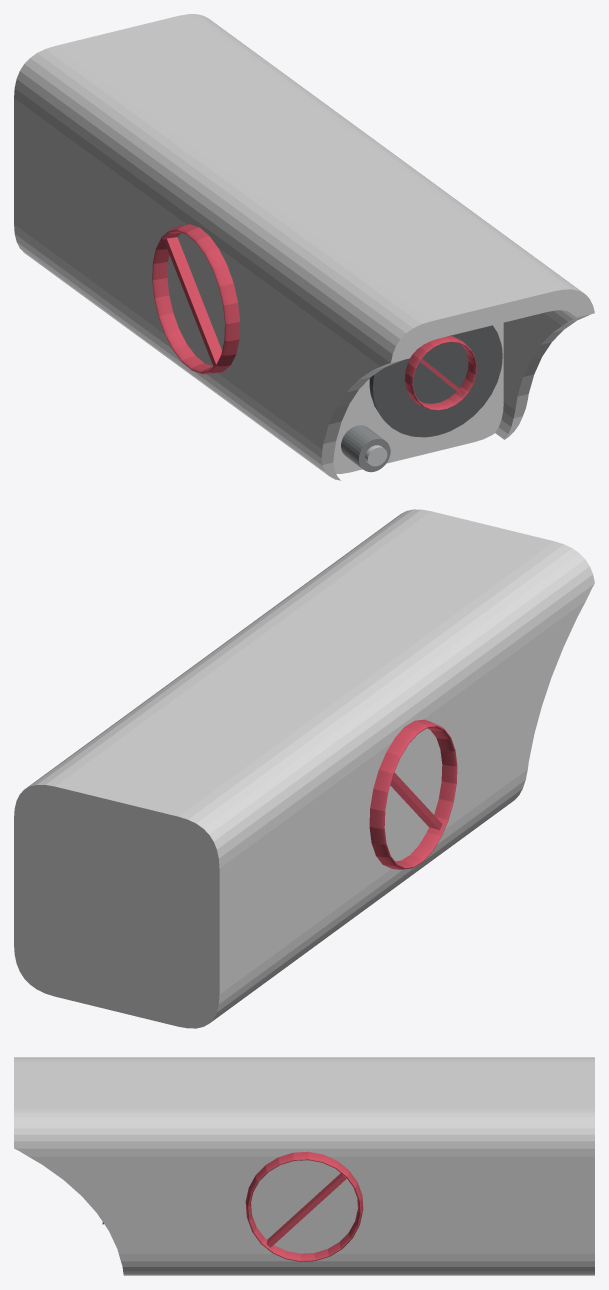
Rendered from Camera - non-operational.glb.
The picture shows the model from 3 angles, top to bottom: view 1: azimuth 30°, elevation 25°; view 2: azimuth 150°, elevation 25°; view 3: azimuth 270°, elevation 25°; orthographic projection. The views are drawn at different scales.
Parts seen in each view (by area): view 1: Mesh_Mesh_head_geo.001_lambert2SG.001; view 2: Mesh_Mesh_head_geo.001_lambert2SG.001; view 3: Mesh_Mesh_head_geo.001_lambert2SG.001.
Part boxes in pixels (x1,y1,x2,y2): Mesh_Mesh_head_geo.001_lambert2SG.001: (14,14,594,480); Mesh_Mesh_head_geo.001_lambert2SG.001: (14,509,594,1028); Mesh_Mesh_head_geo.001_lambert2SG.001: (14,1057,594,1275).
Size of the model in its own units: 38.41 by 33.08 by 107.
